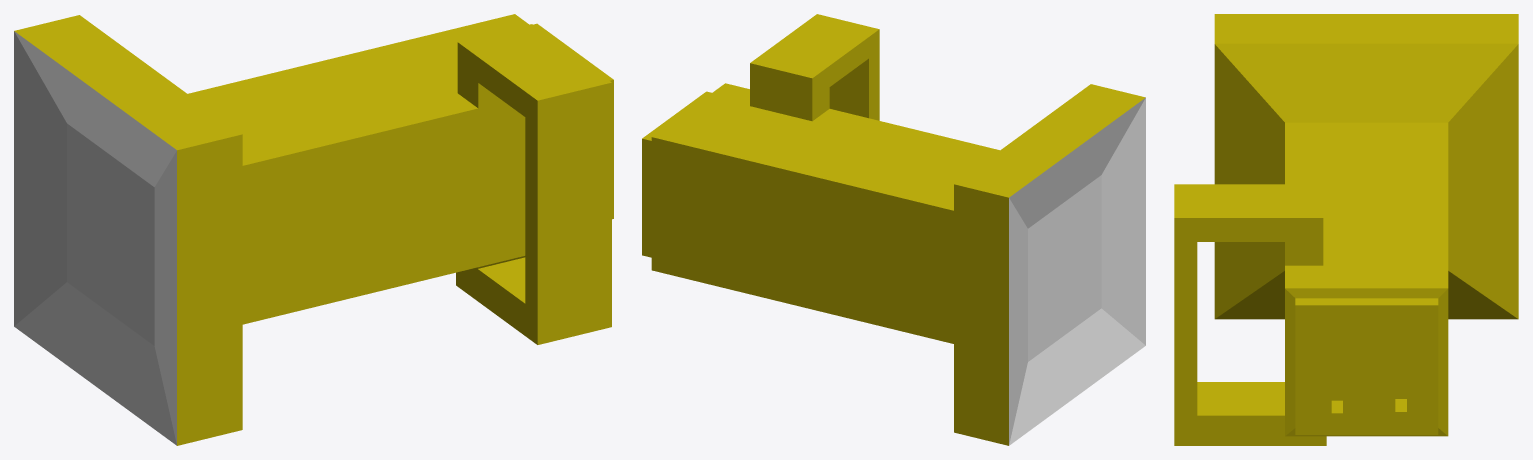
Rendered from Objetos_juego_terror_VR_Linterna.fbx.
3 views of the same model, side by side, from view 1: azimuth 30°, elevation 25°; view 2: azimuth 150°, elevation 25°; view 3: azimuth 270°, elevation 25° (orthographic). The views are drawn at different scales.
Parts seen in each view (by area): view 1: Linterna; view 2: Linterna; view 3: Linterna.
Boxes of the visible parts, bbox=[...] form: Linterna: bbox=[14, 14, 613, 445]; Linterna: bbox=[642, 14, 1145, 445]; Linterna: bbox=[1174, 14, 1518, 445].
Size of the model in its own units: 89.77 by 52.83 by 59.83.
